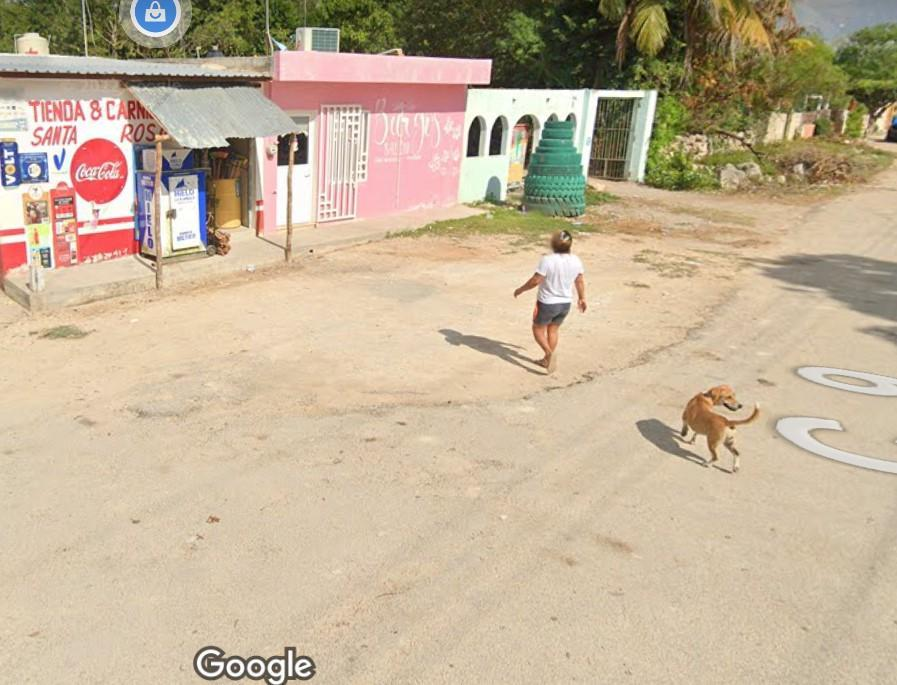normal_dogs: (669, 377, 767, 486)
